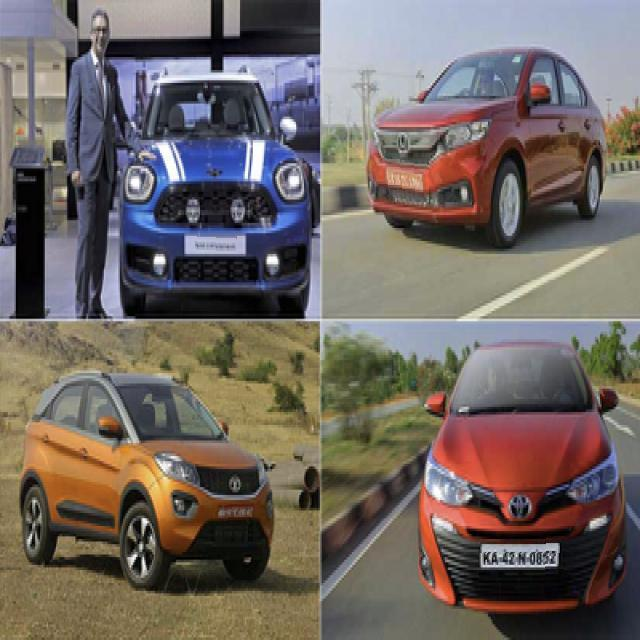licence: (478, 536, 565, 583), (379, 153, 429, 202), (187, 233, 237, 254), (211, 503, 256, 523)
